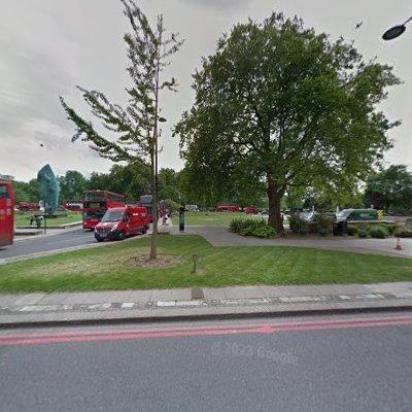moving-bus: (82, 188, 126, 234), (0, 178, 18, 250), (138, 192, 158, 224), (60, 198, 86, 214), (213, 200, 240, 214)
moving-light-truck: (92, 206, 152, 242), (15, 200, 42, 213)
stationary-car-offstreet: (244, 203, 258, 217)
stationary-light-truck-offstreet: (333, 207, 378, 223)
